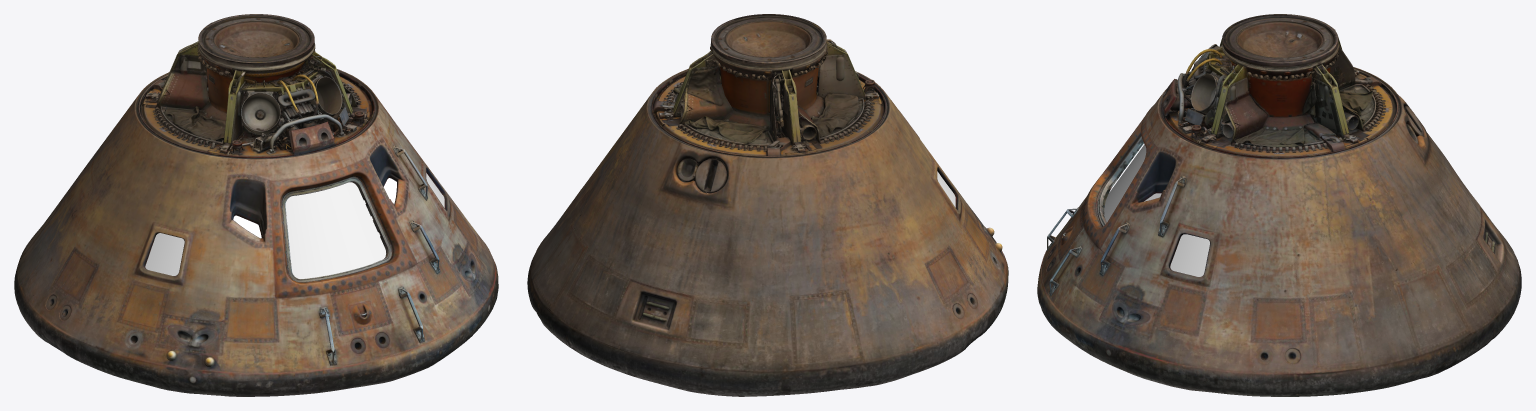
The model's file is medium.glb.
3 views of the same model, side by side, from view 1: azimuth 30°, elevation 25°; view 2: azimuth 150°, elevation 25°; view 3: azimuth 270°, elevation 25° (orthographic).
Visible parts, largest first — view 1: model; view 2: model; view 3: model.
Boxes of the visible parts, x1,y1,x2,y2 form: model: (14, 14, 498, 396); model: (527, 14, 1008, 396); model: (1037, 14, 1521, 396).
Bounding box in the file's own units: 3.91 × 2.74 × 3.92.
3 materials, 2 textured.
